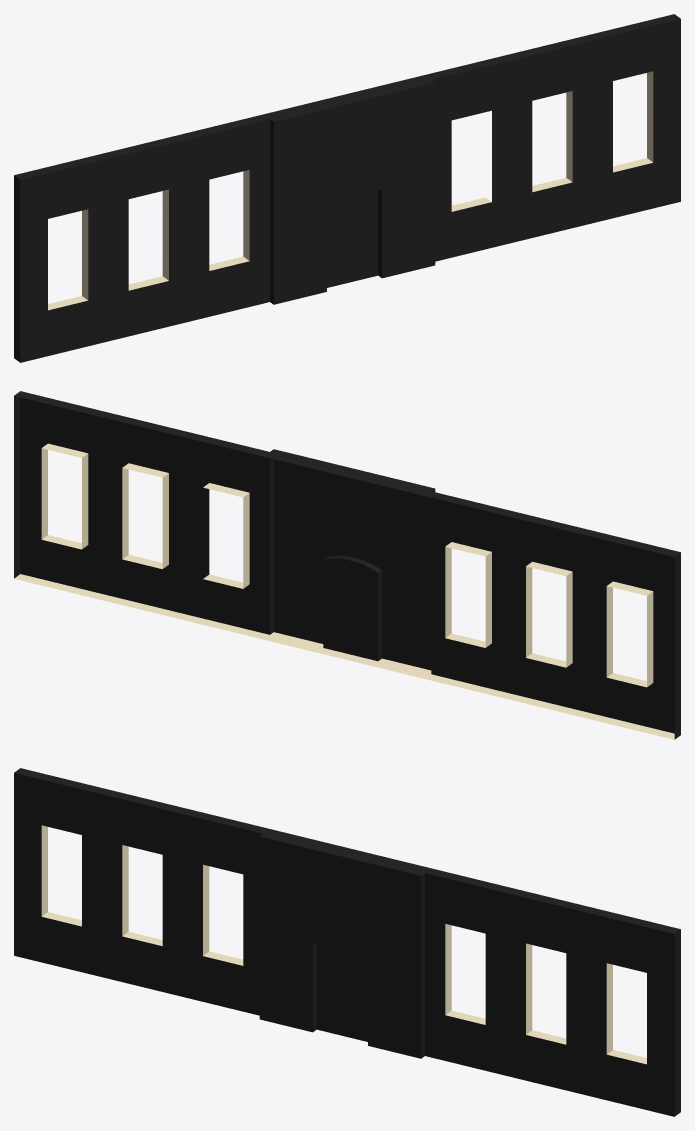
The model's file is PE_3x3_LOBBY_EXTENSION.obj.
3 renders of one model, top to bottom at view 1: azimuth 30°, elevation 25°; view 2: azimuth 150°, elevation 25°; view 3: azimuth 330°, elevation 25°, orthographic.
Parts seen in each view (by area): view 1: PE_3x3_LOBBY_EXTENSION; view 2: PE_3x3_LOBBY_EXTENSION; view 3: PE_3x3_LOBBY_EXTENSION.
Boxes of the visible parts, bbox=[...] form: PE_3x3_LOBBY_EXTENSION: bbox=[14, 14, 680, 362]; PE_3x3_LOBBY_EXTENSION: bbox=[14, 391, 680, 739]; PE_3x3_LOBBY_EXTENSION: bbox=[14, 768, 680, 1116].
Size of the model in its own units: 72 by 19.06 by 1.94.
